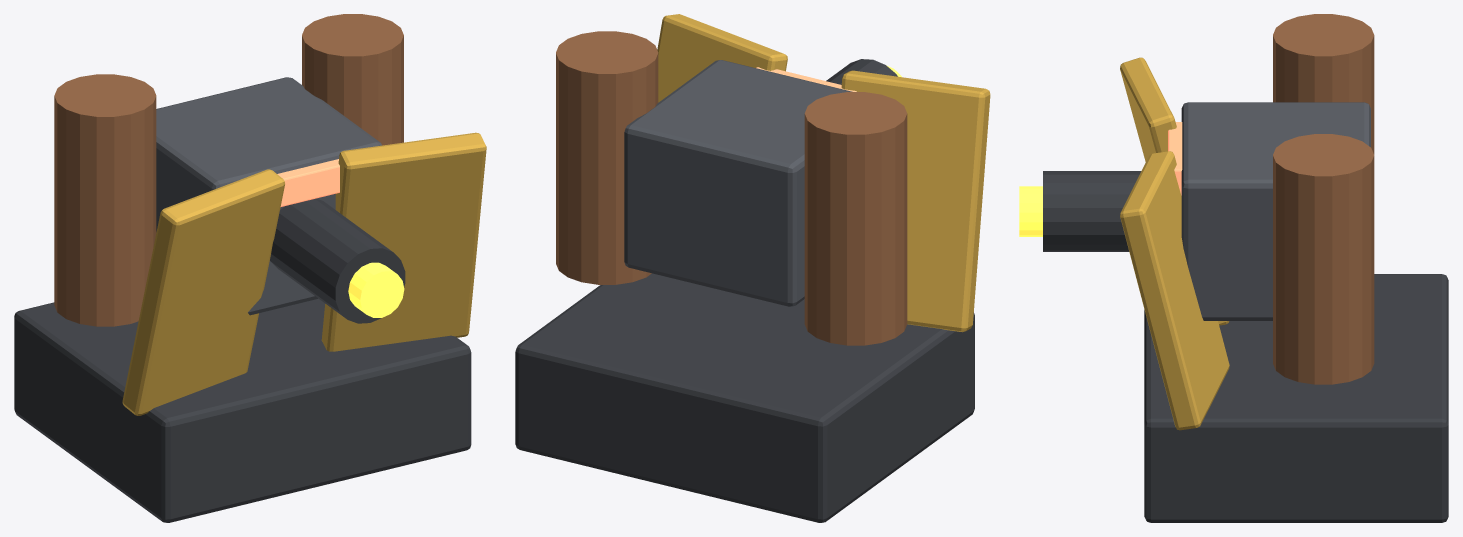
File: enemy_torretta_lanciafiamme.glb
3 views of the same model, side by side, from view 1: azimuth 30°, elevation 25°; view 2: azimuth 150°, elevation 25°; view 3: azimuth 270°, elevation 25° (orthographic).
Visible parts, largest first — view 1: TurretPlinth, BlastShieldL, FuelTank_-0.42, BlastShieldR, TurretHead, FuelTank_0.42, FlameShroud, PilotFlame, TurretVisor; view 2: TurretPlinth, TurretHead, FuelTank_-0.42, FuelTank_0.42, BlastShieldL, BlastShieldR, FlameShroud; view 3: TurretPlinth, FuelTank_0.42, TurretHead, BlastShieldR, FuelTank_-0.42, FlameShroud, BlastShieldL, PilotFlame, TurretVisor.
Part boxes in pixels (box(x1,y1,x2,y2)): TurretPlinth: box(14, 298, 471, 522); BlastShieldL: box(122, 169, 284, 415); FuelTank_-0.42: box(54, 74, 156, 326); BlastShieldR: box(321, 132, 486, 351); TurretHead: box(156, 77, 381, 315); FuelTank_0.42: box(302, 14, 403, 145); FlameShroud: box(270, 198, 405, 323); PilotFlame: box(348, 262, 404, 317); TurretVisor: box(277, 159, 339, 206); TurretPlinth: box(515, 273, 974, 522); TurretHead: box(624, 60, 852, 306); FuelTank_-0.42: box(804, 92, 907, 345); FuelTank_0.42: box(556, 31, 658, 284); BlastShieldL: box(841, 70, 990, 332); BlastShieldR: box(657, 14, 787, 102); FlameShroud: box(826, 59, 897, 84); TurretPlinth: box(1144, 274, 1448, 522); FuelTank_0.42: box(1273, 134, 1374, 384); TurretHead: box(1181, 102, 1370, 320); BlastShieldR: box(1120, 151, 1229, 430); FuelTank_-0.42: box(1273, 14, 1374, 154); FlameShroud: box(1043, 171, 1141, 251); BlastShieldL: box(1120, 57, 1229, 325); PilotFlame: box(1019, 186, 1042, 236); TurretVisor: box(1168, 122, 1182, 195).
Bounding box in the file's own units: 1.16 × 1.16 × 1.27.
